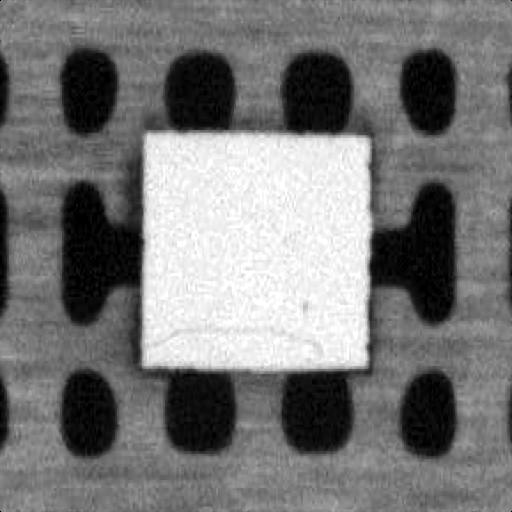DIE_INK: (296, 292, 315, 321)
